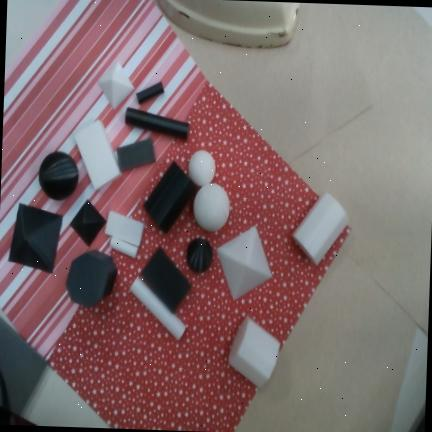Cilindro: (129, 276, 186, 341), (125, 107, 189, 140), (137, 82, 164, 105), (110, 237, 139, 258)
Esfera: (39, 151, 79, 201), (193, 183, 230, 231), (189, 151, 216, 187), (187, 239, 213, 274)
Paralelepipedo: (73, 119, 122, 190), (141, 247, 192, 313), (105, 210, 145, 247), (116, 139, 156, 172)
Piramide: (216, 225, 273, 302), (8, 203, 63, 274), (97, 58, 135, 110), (69, 199, 107, 248)
Prisma_hexagonal: (293, 194, 349, 265), (143, 161, 197, 234), (228, 315, 281, 388), (65, 249, 117, 308)
